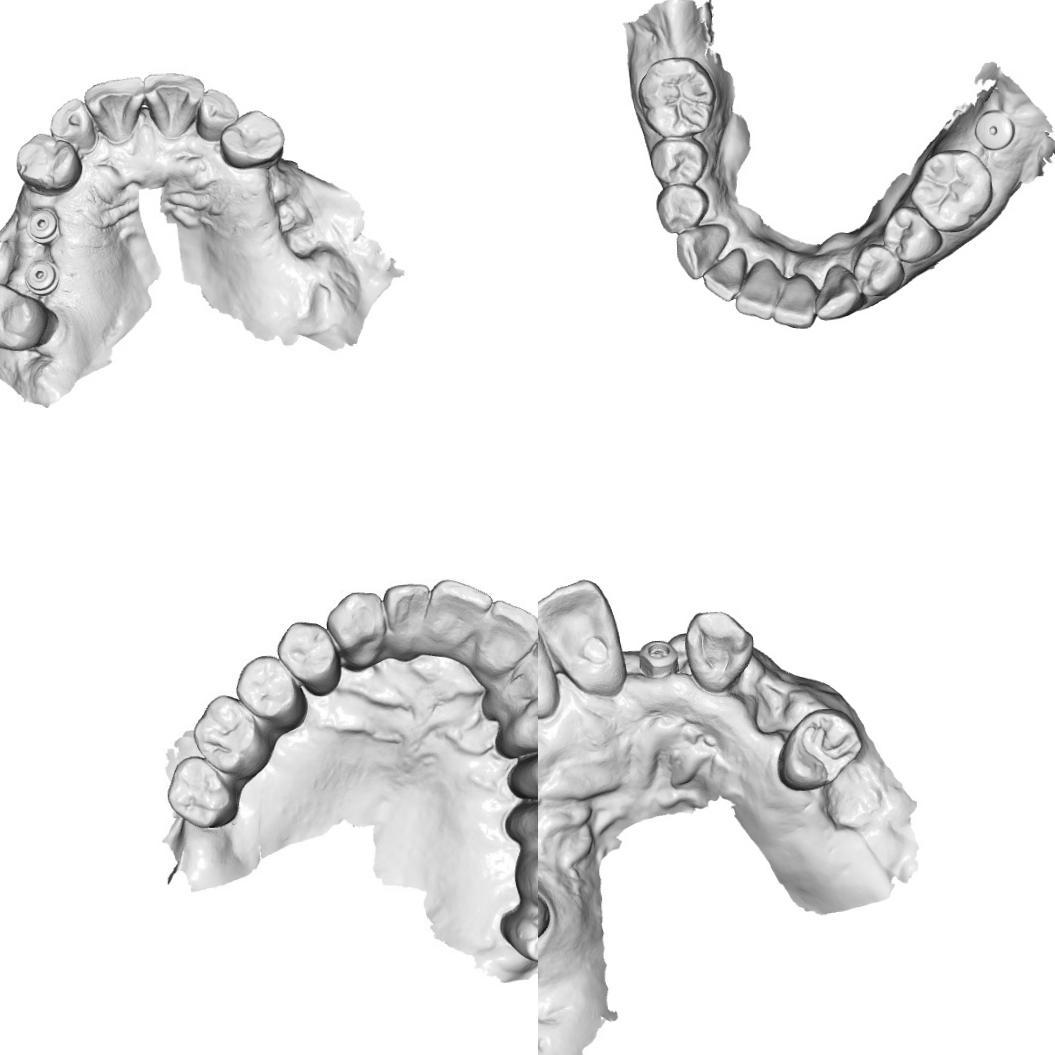canine: (680, 608, 754, 698), (322, 589, 388, 670), (675, 222, 733, 281), (811, 263, 865, 322), (507, 684, 538, 753)
implant: (634, 634, 685, 688), (971, 108, 1016, 152), (23, 205, 64, 246), (22, 258, 62, 296)
incisor: (538, 576, 624, 700), (472, 594, 538, 673), (82, 74, 148, 147), (428, 576, 493, 648), (143, 70, 206, 140), (382, 579, 434, 652), (732, 256, 780, 322), (770, 270, 818, 332), (48, 95, 99, 153), (700, 245, 750, 304), (192, 86, 241, 142), (504, 635, 538, 705), (538, 609, 560, 714)
molar: (906, 147, 996, 236), (635, 52, 719, 140), (190, 691, 262, 776), (162, 753, 236, 833), (0, 276, 59, 354), (511, 902, 538, 967)
premolar: (773, 702, 866, 794), (272, 616, 341, 695), (12, 130, 86, 199), (234, 654, 302, 726), (216, 108, 288, 169), (879, 205, 945, 264), (850, 243, 907, 299), (654, 182, 711, 236), (646, 138, 710, 186)
